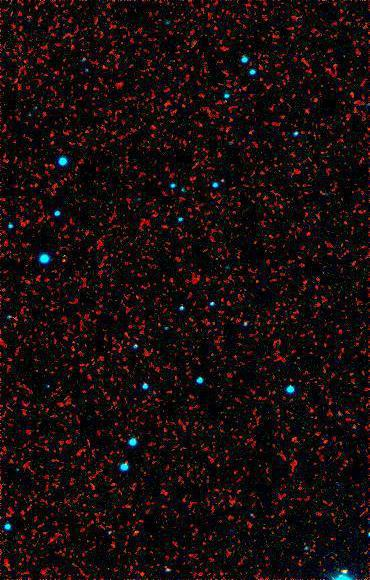star: (121, 520, 151, 550)
